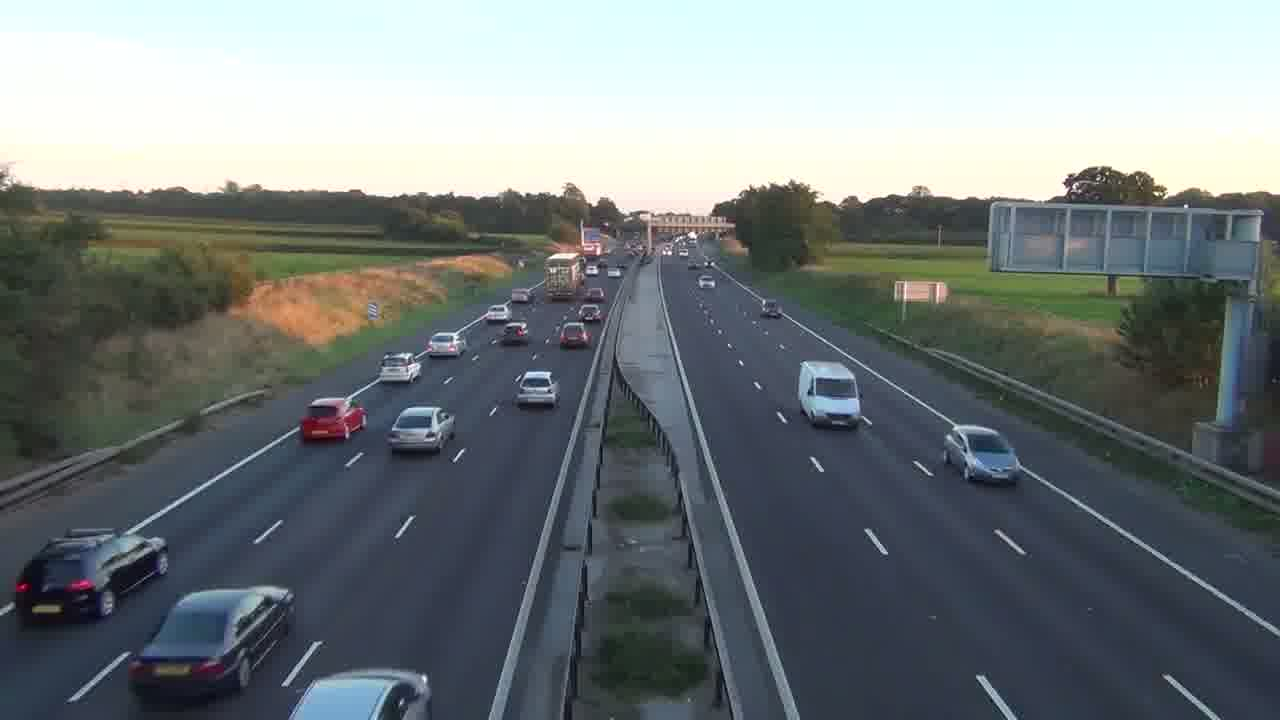car: (128, 585, 295, 703), (288, 668, 432, 719), (943, 424, 1021, 485), (385, 404, 457, 454), (301, 396, 369, 443), (514, 368, 561, 409), (379, 351, 423, 383), (423, 332, 464, 358), (559, 321, 590, 349), (498, 320, 529, 346), (761, 299, 782, 318)
truck: (128, 585, 295, 703), (14, 527, 170, 625), (797, 360, 863, 428)
